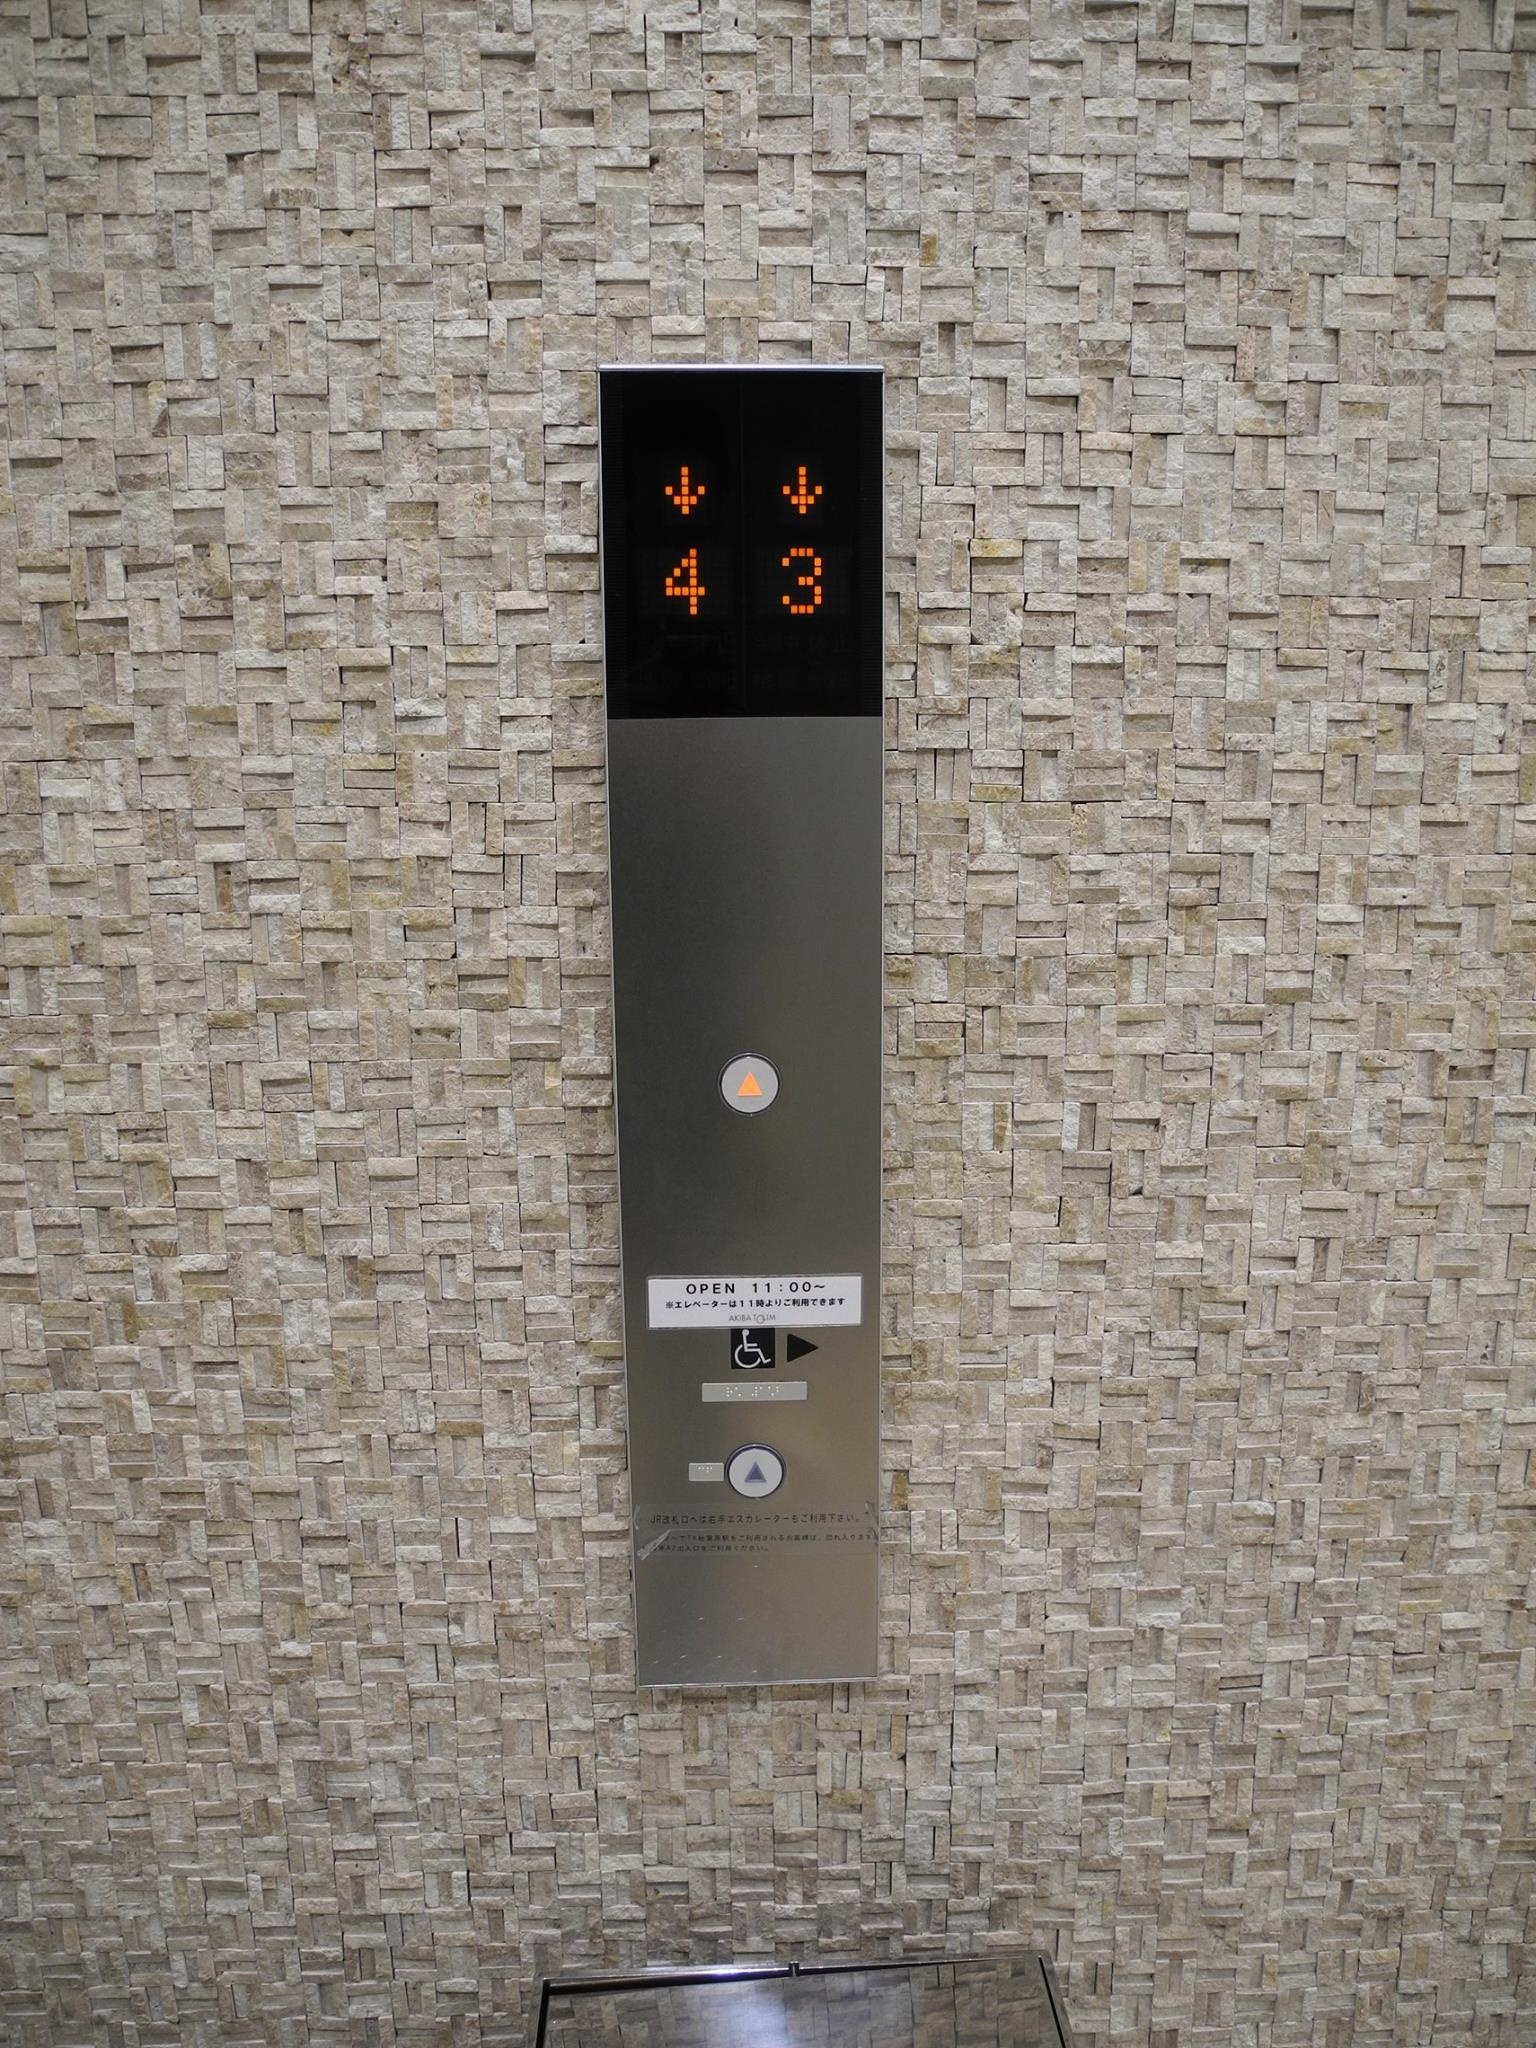CH: (729, 1327, 778, 1371)
led: (597, 371, 745, 719), (744, 369, 883, 718)
up: (716, 1051, 783, 1118), (724, 1442, 786, 1501)
